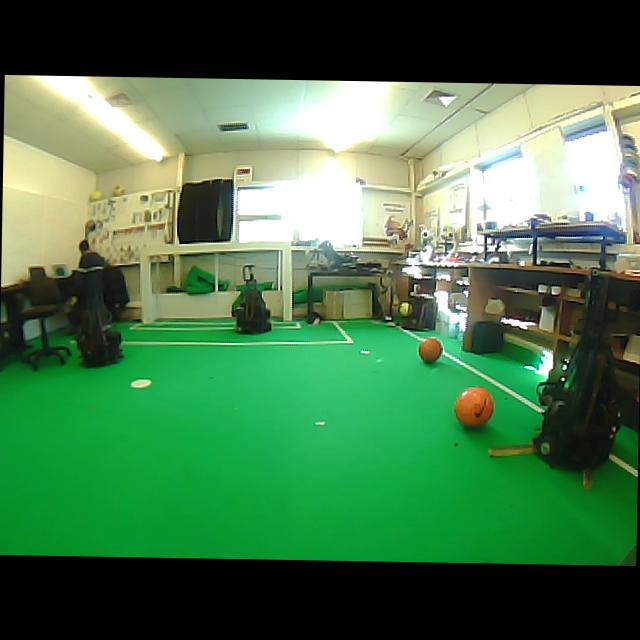ball: (454, 386, 493, 427), (417, 337, 442, 362), (399, 301, 412, 316), (88, 190, 102, 200), (112, 185, 125, 195)
goal: (281, 241, 292, 320), (140, 253, 151, 321)
robot: (533, 272, 619, 468), (76, 297, 123, 367), (233, 265, 270, 333)
